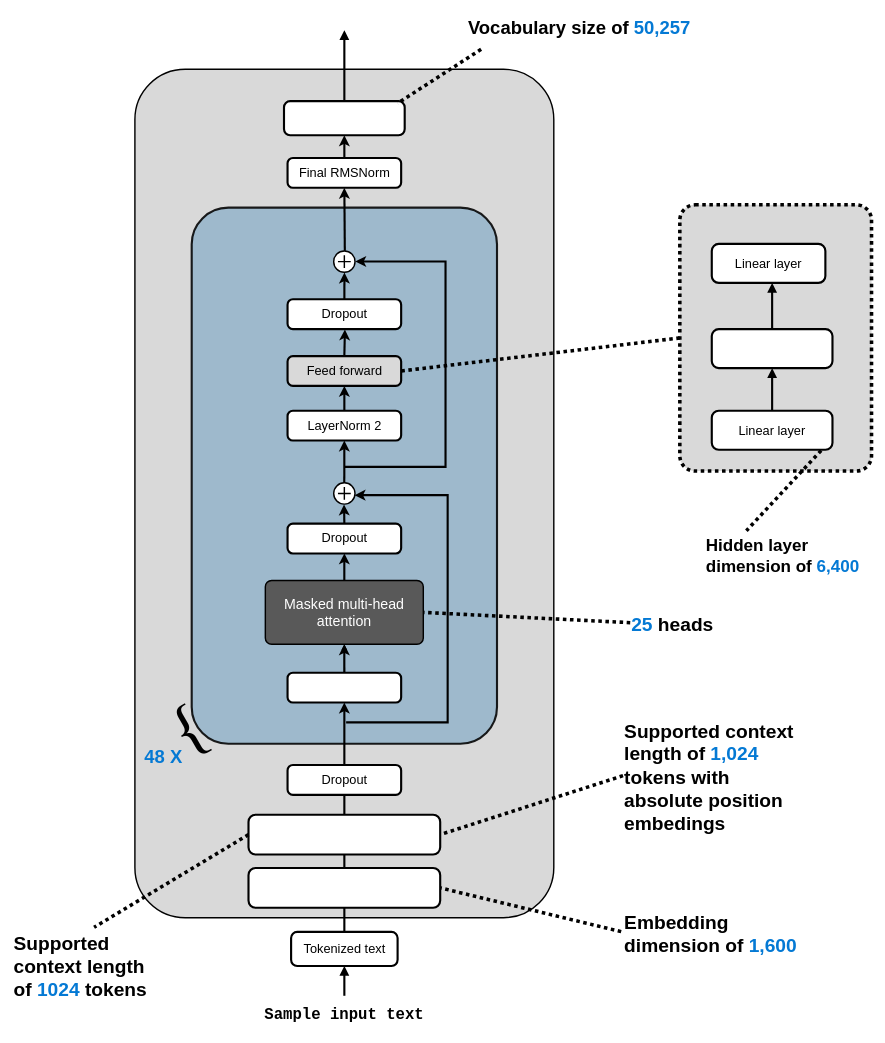
Image size: 885x1043. Some labels were removed from this diagram. The shapes that lost their labels are listed below. From the top down, each one's centre as x and y in pixels, then its label:
At point (344, 118): "Linear output layer".
At point (771, 348): "GELU activation".
At point (344, 687): "LayerNorm 1".
At point (344, 834): "Positional embeding layer".
At point (344, 887): "Token embedding layer".
